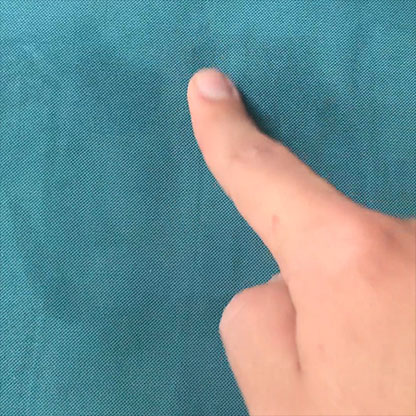fingertip: (177, 56, 251, 118)
